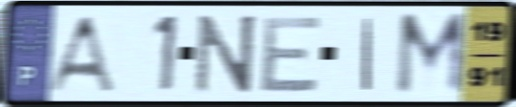1: (150, 12, 183, 96)
A: (41, 13, 119, 94)
E: (257, 13, 326, 95)
I: (359, 14, 376, 93)
M: (392, 10, 469, 99)
N: (192, 11, 260, 96)
